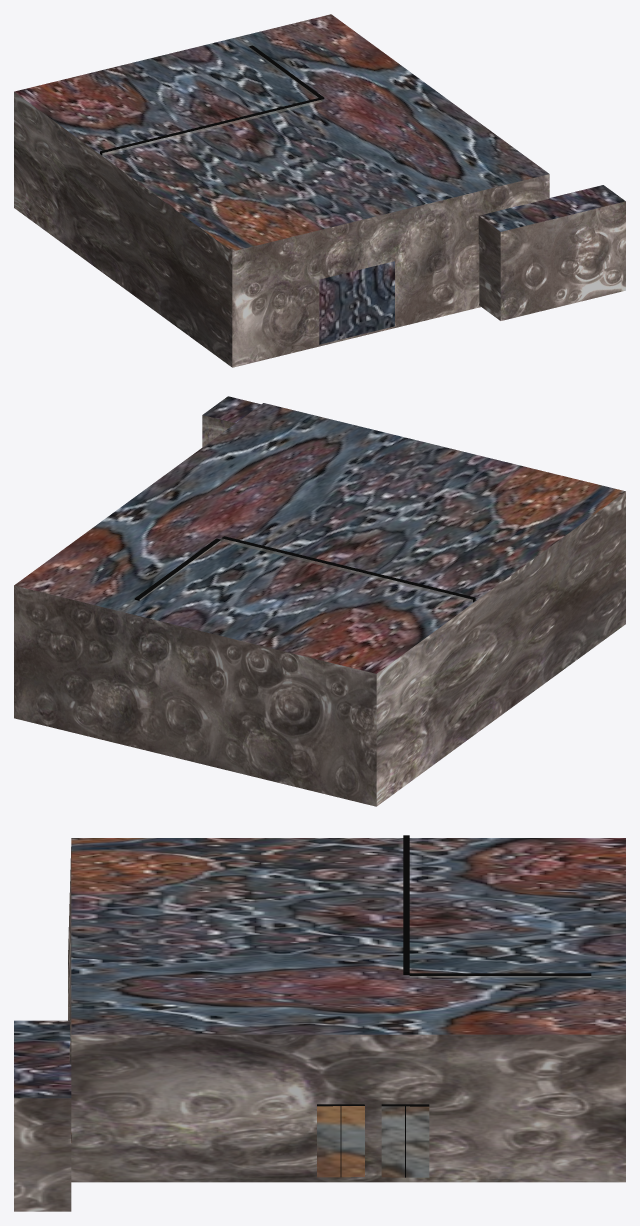
File: school_floor1_shell.glb
3 renders of one model, top to bottom at view 1: azimuth 30°, elevation 25°; view 2: azimuth 150°, elevation 25°; view 3: azimuth 270°, elevation 25°, orthographic. The views are drawn at different scales.
Visible parts, largest first — view 1: Cube.002; view 2: Cube.002; view 3: Cube.002.
Boxes of the visible parts, <box> form: Cube.002: <box>14,14,625,367</box>; Cube.002: <box>14,396,625,806</box>; Cube.002: <box>14,835,625,1211</box>.
Size of the model in its own units: 119 by 36.53 by 134.
8 materials, 7 textured.
